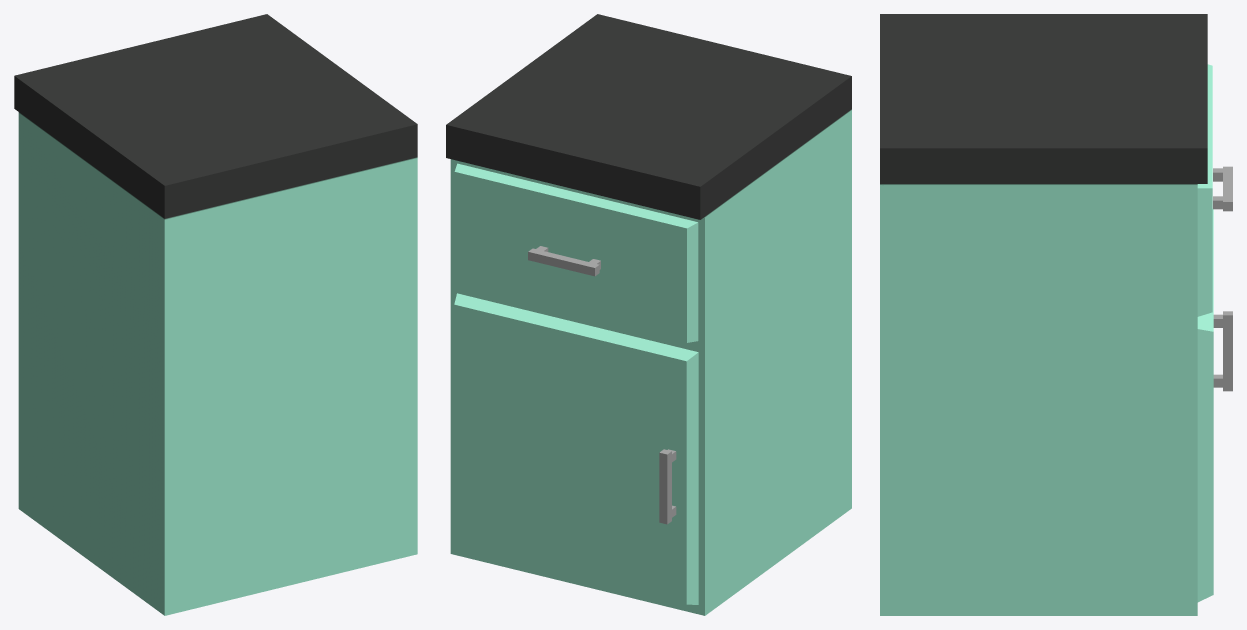
Rendered from Cabinet.fbx.
3 views of the same model, side by side, from view 1: azimuth 30°, elevation 25°; view 2: azimuth 150°, elevation 25°; view 3: azimuth 270°, elevation 25° (orthographic). The views are drawn at different scales.
Parts seen in each view (by area): view 1: Cabinet; view 2: Cabinet, Door, Drawer, DoorHandle, DrawerHandle; view 3: Cabinet, Door, Drawer, DoorHandle, DrawerHandle.
Part boxes in pixels (left/top/right/bottom): Cabinet: left=14, top=14, right=417, bottom=615; Cabinet: left=446, top=14, right=851, bottom=615; Door: left=454, top=293, right=698, bottom=604; Drawer: left=454, top=163, right=698, bottom=342; DoorHandle: left=659, top=449, right=676, bottom=524; DrawerHandle: left=528, top=246, right=600, bottom=276; Cabinet: left=880, top=14, right=1207, bottom=615; Door: left=1197, top=209, right=1213, bottom=602; Drawer: left=1197, top=64, right=1212, bottom=316; DoorHandle: left=1213, top=311, right=1232, bottom=391; DrawerHandle: left=1213, top=166, right=1232, bottom=211.
Size of the model in its own units: 2 by 2.22 by 3.25.
2 materials, 1 textured.
